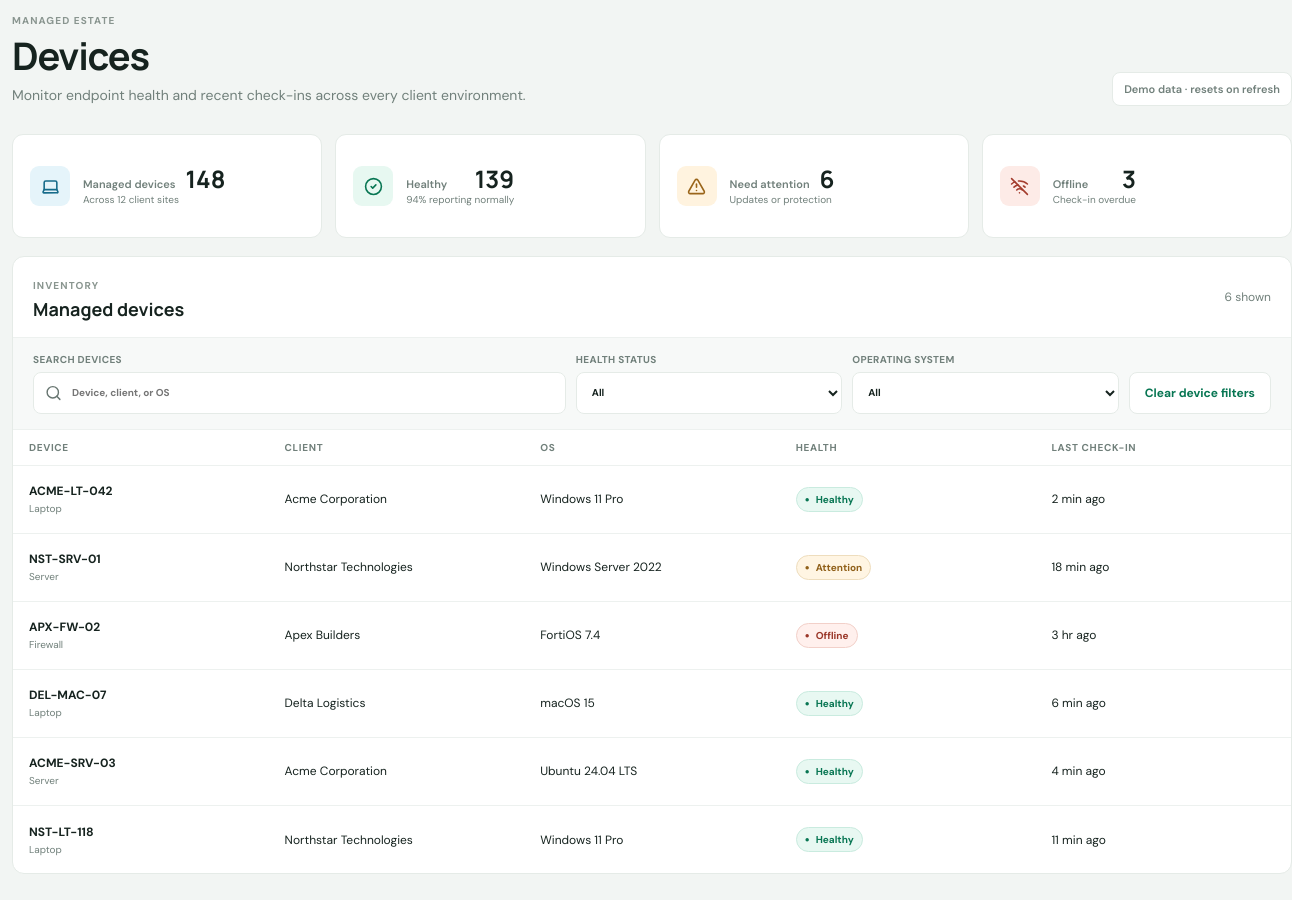
demo module pages › filters managed devices by search and health with a recoverable empty state
Expected: the heading "Devices" is shown, [12,29,149,81]
Expected: the text "ACME-LT-042" is shown, [29,484,112,500]
Type "northstar" into the search field labelled "Search devices" at {"x": 299, "y": 393}, box [33,372,566,414]
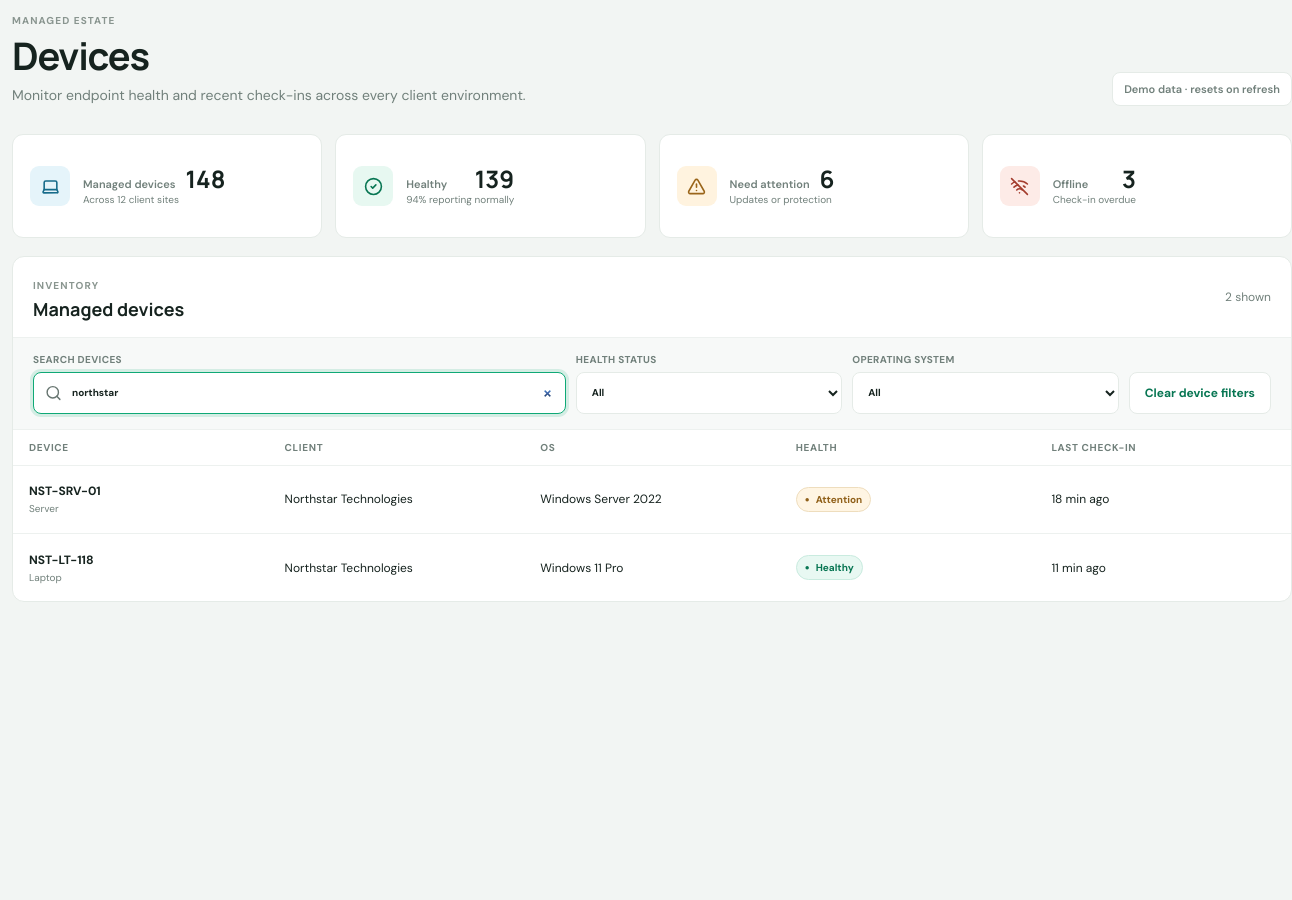
Expected: the text "NST-SRV-01" is shown, [29,484,101,500]
Now the text "ACME-LT-042" is gone
Select "Offline" in the dropdown labelled "Health status" at {"x": 709, "y": 393}, box [576,372,842,414]
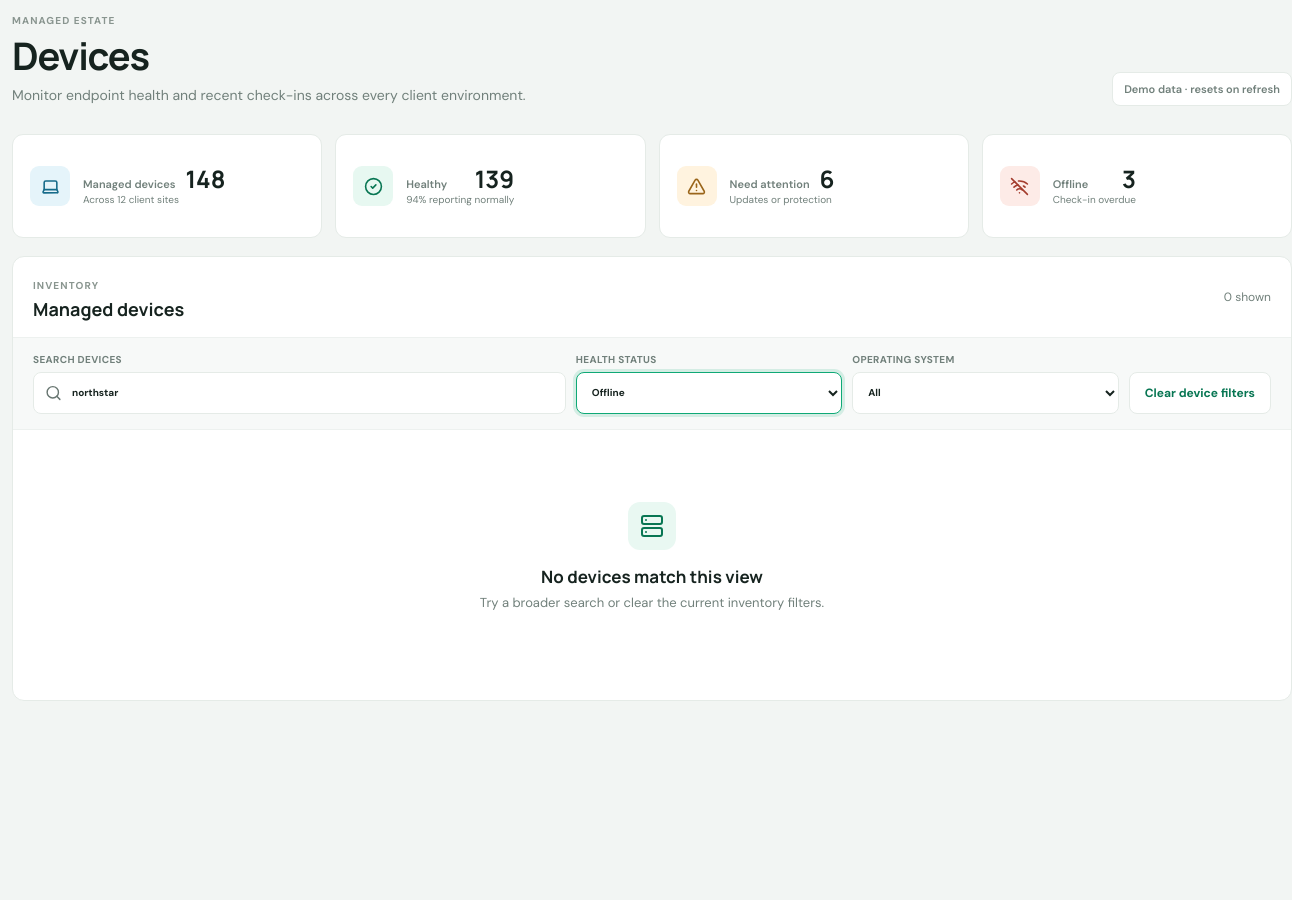
Now the heading "No devices match this view" is shown, box [541,565,763,588]
Click the button "Clear device filters" at {"x": 1200, "y": 393}, box [1129,372,1271,414]
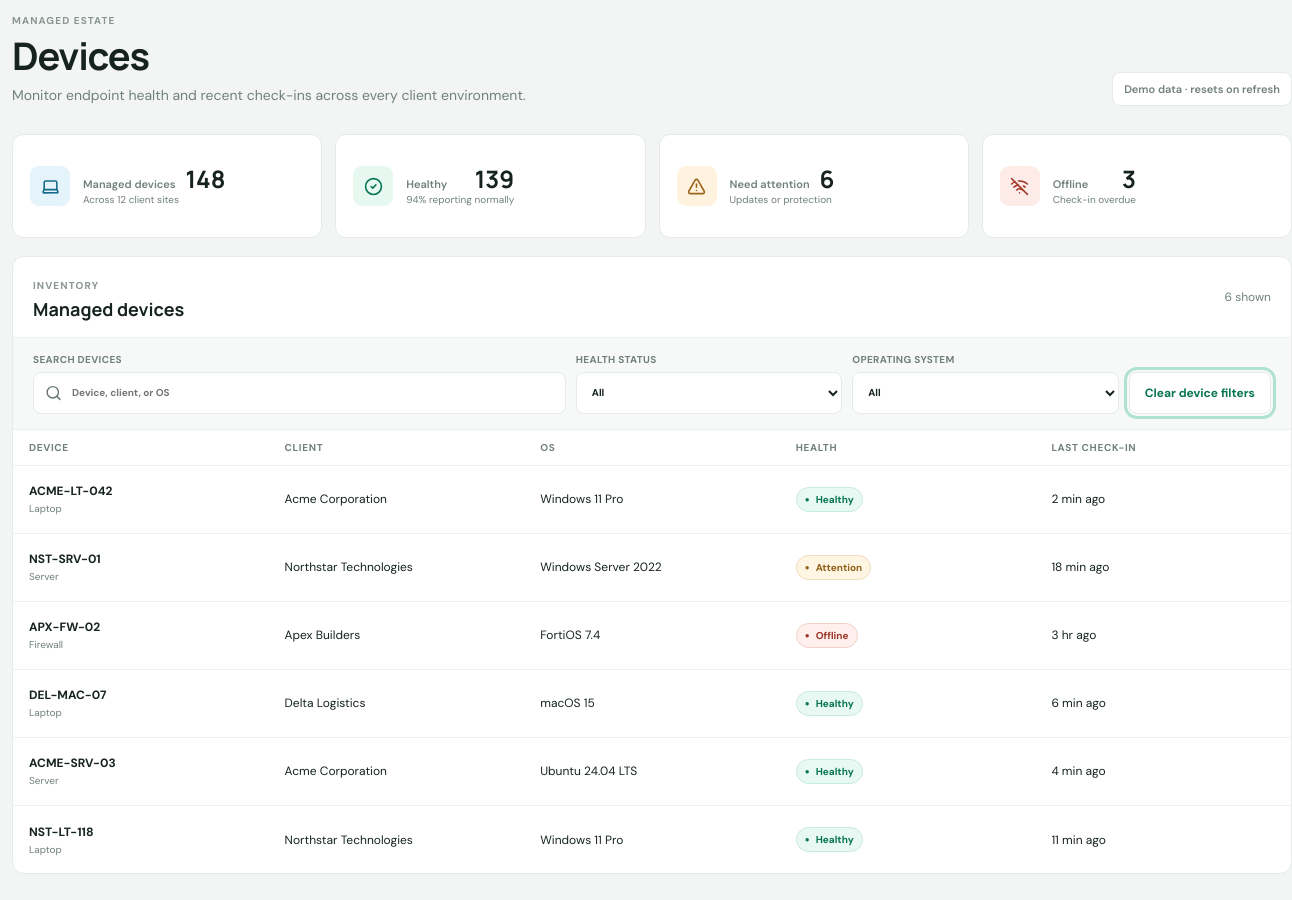
Now the text "ACME-LT-042" is shown, box [29,484,112,500]
